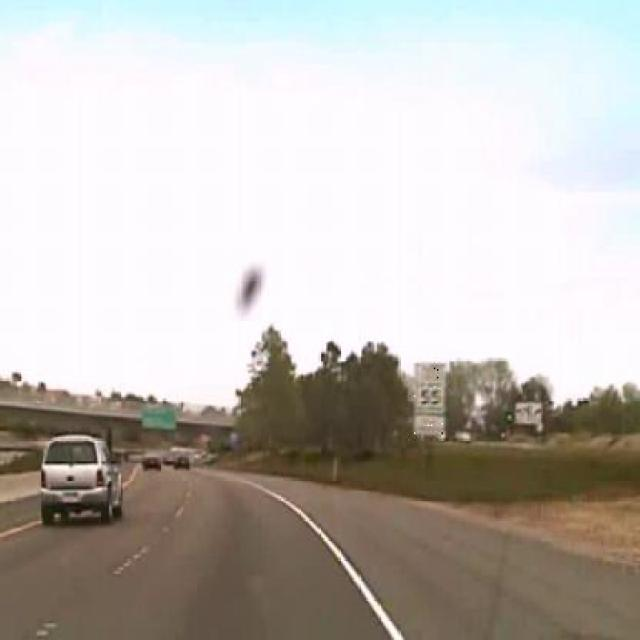truckSpeedLimit55: (412, 360, 444, 437)
